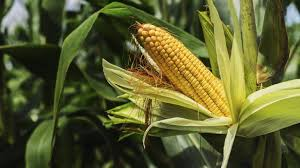milho: (110, 16, 284, 151)
